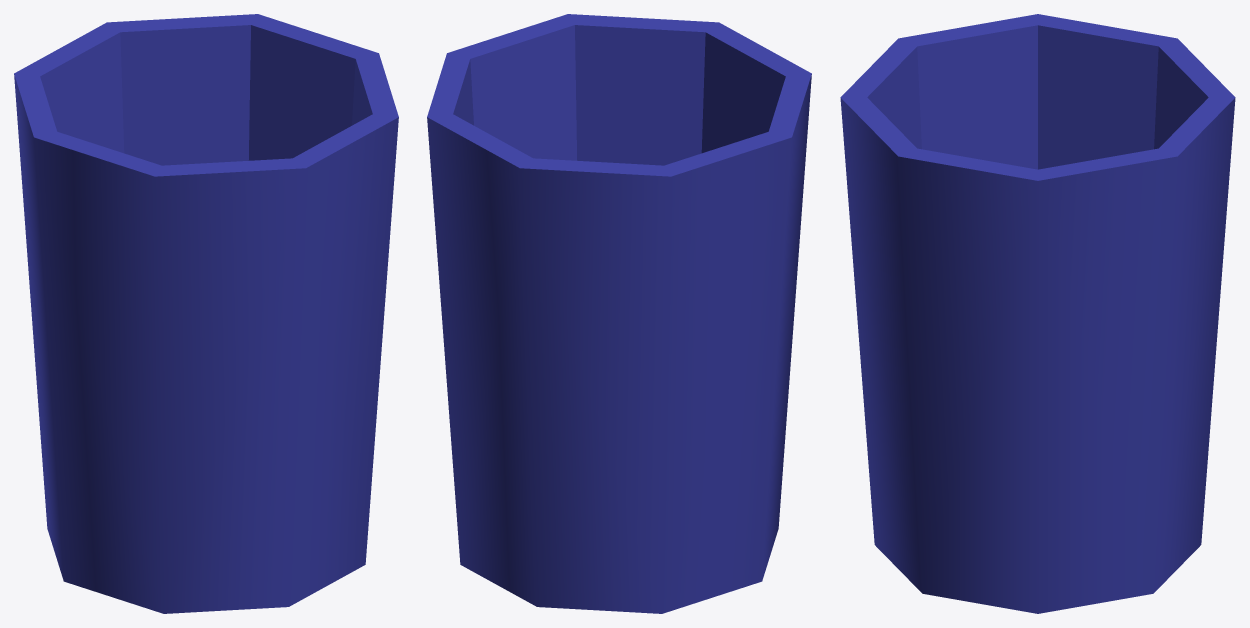
The model's file is trashcan_08x1x08.FBX.
The picture shows the model from 3 angles, left to right: view 1: azimuth 30°, elevation 25°; view 2: azimuth 150°, elevation 25°; view 3: azimuth 270°, elevation 25°; orthographic projection.
Visible parts, largest first — view 1: trashCan_08x1x08; view 2: trashCan_08x1x08; view 3: trashCan_08x1x08.
Part boxes in pixels (x1=…): trashCan_08x1x08: x1=14, y1=14, x2=398, y2=613; trashCan_08x1x08: x1=427, y1=14, x2=811, y2=613; trashCan_08x1x08: x1=840, y1=14, x2=1235, y2=613.
Bounding box in the file's own units: 0.8 × 1 × 0.8.
